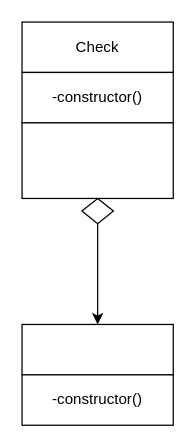
Some shapes in this 195 by 447 pixel diagram are drawn without their labels. The centre of each missing label's shape, as x and y in pixels:
"+addProduct() +getCheckInfo()" goes at (97,160).
"Product" goes at (97,349).
